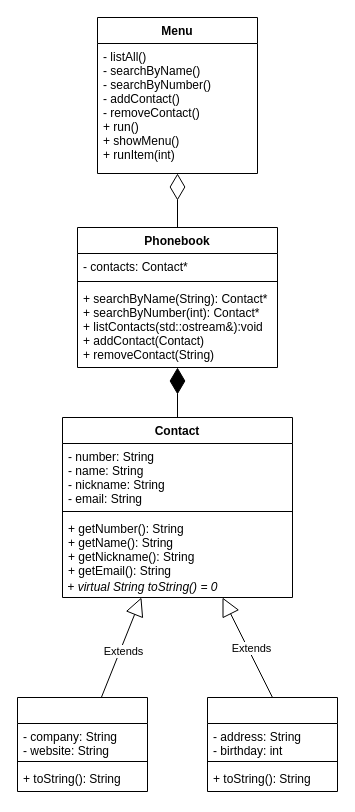
This 355x812 diagram has some shape labels left out. Each missing label, with the box of its shape:
Private: (206, 696, 338, 792)
Work: (16, 696, 148, 792)
